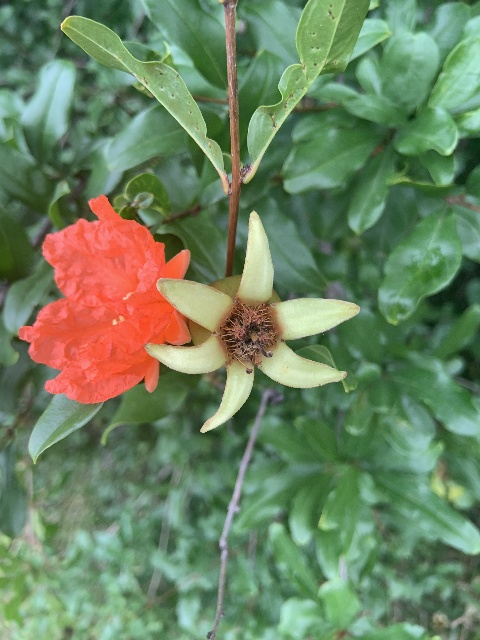early-fruit: (142, 210, 360, 433)
flower: (17, 195, 192, 404)
